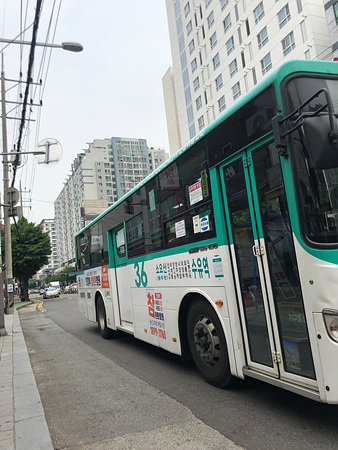entrance: (214, 144, 328, 396)
